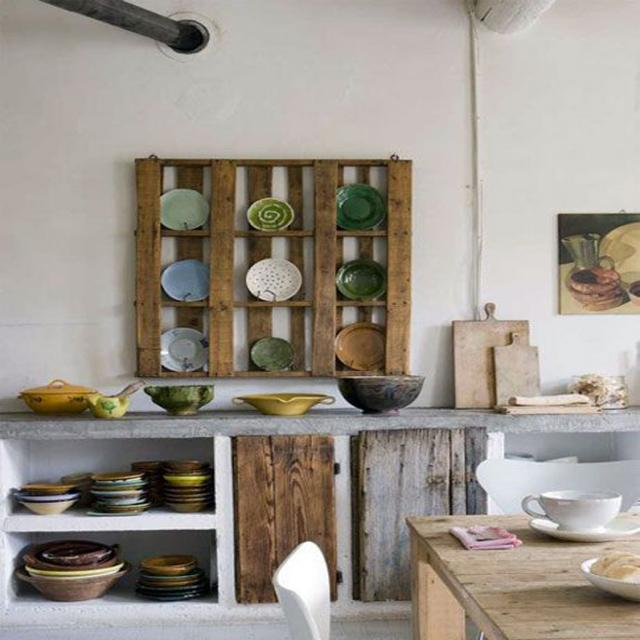Palette: (132, 154, 428, 398)
